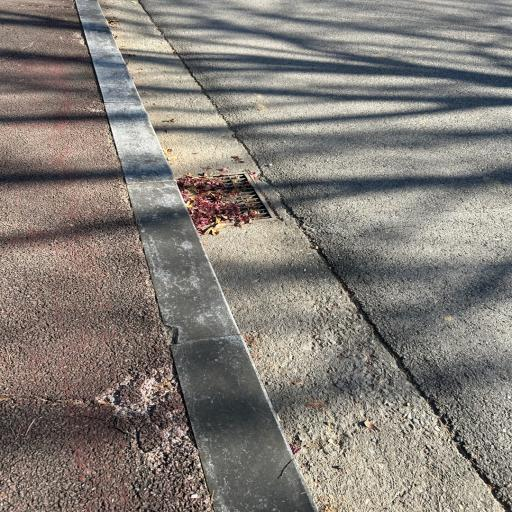debris: (183, 183, 214, 217), (217, 189, 253, 207), (201, 175, 226, 183), (245, 209, 261, 219), (230, 172, 239, 183), (215, 217, 223, 223), (224, 215, 228, 222), (211, 205, 214, 209), (207, 221, 210, 224), (240, 217, 243, 220), (196, 179, 199, 181)
drain: (179, 171, 270, 226)
